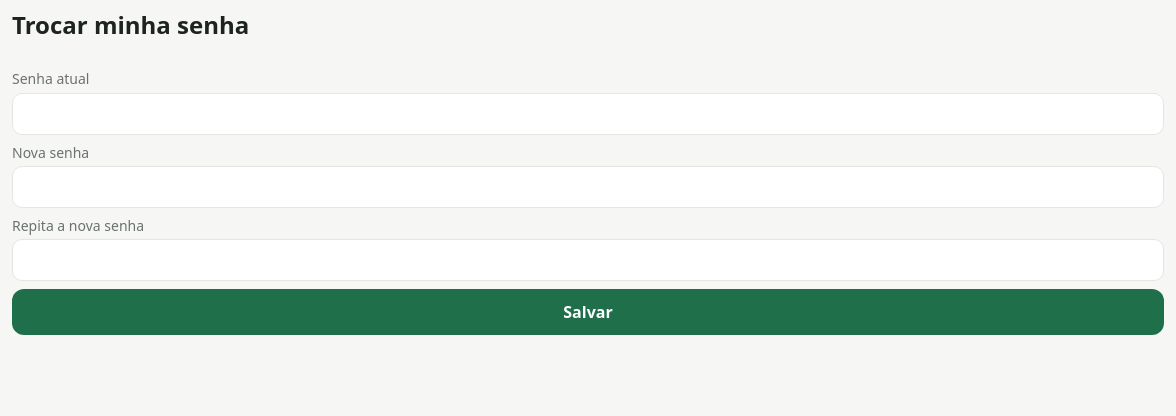
Test: TrocarSenha — voluntária (P2) › nova diferente da confirmação
Type "atual123" into the password field labelled "Senha atual". click: (588, 114)
box: 12,93 -> 1164,135
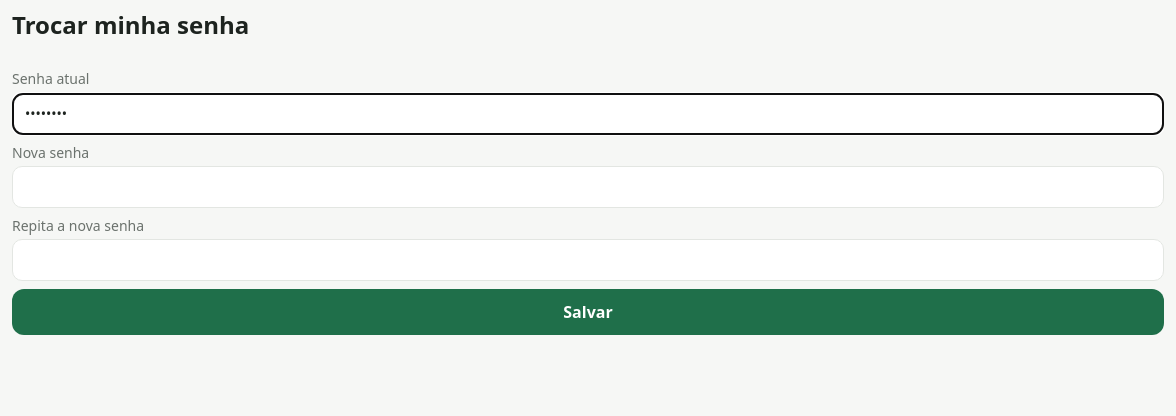
Type "novasenha1" into the password field labelled "Nova senha". click: (588, 187)
box: 12,166 -> 1164,208
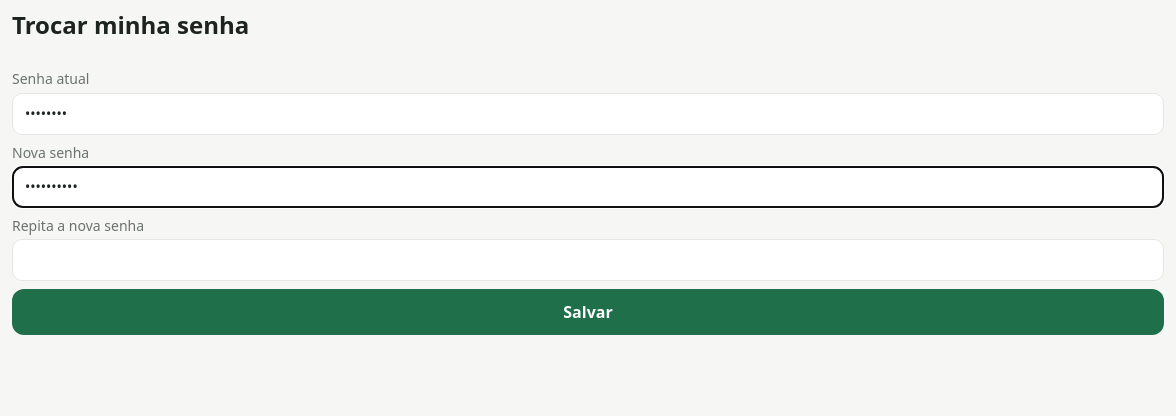
Type "novasenha2" into the password field labelled "Repita a nova senha". click: (588, 260)
box: 12,239 -> 1164,281
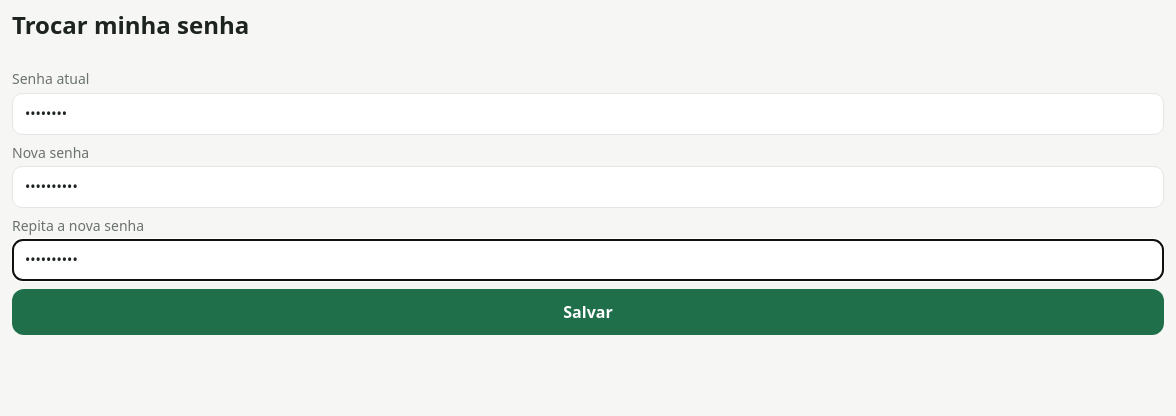
Click the button "Salvar". click: (588, 312)
box: 12,289 -> 1164,335
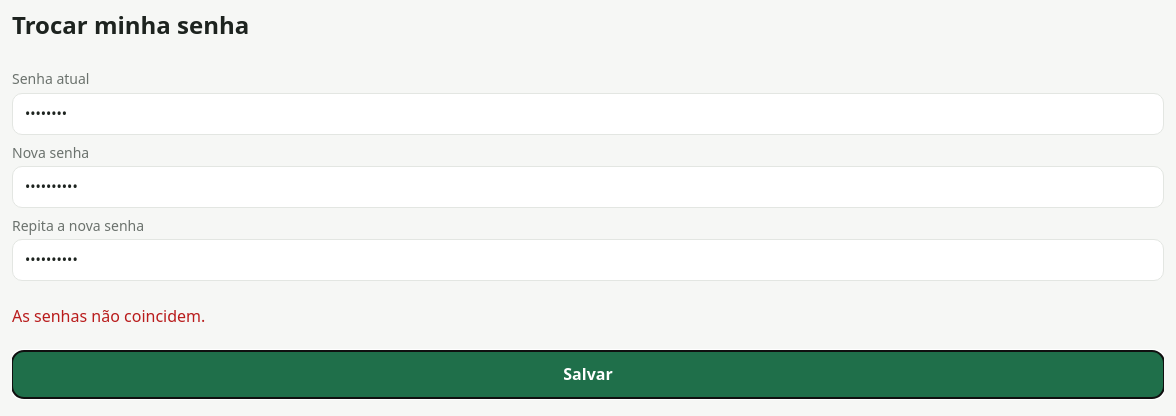
Now the text "As senhas não coincidem." is shown, box 12,305 -> 205,327
